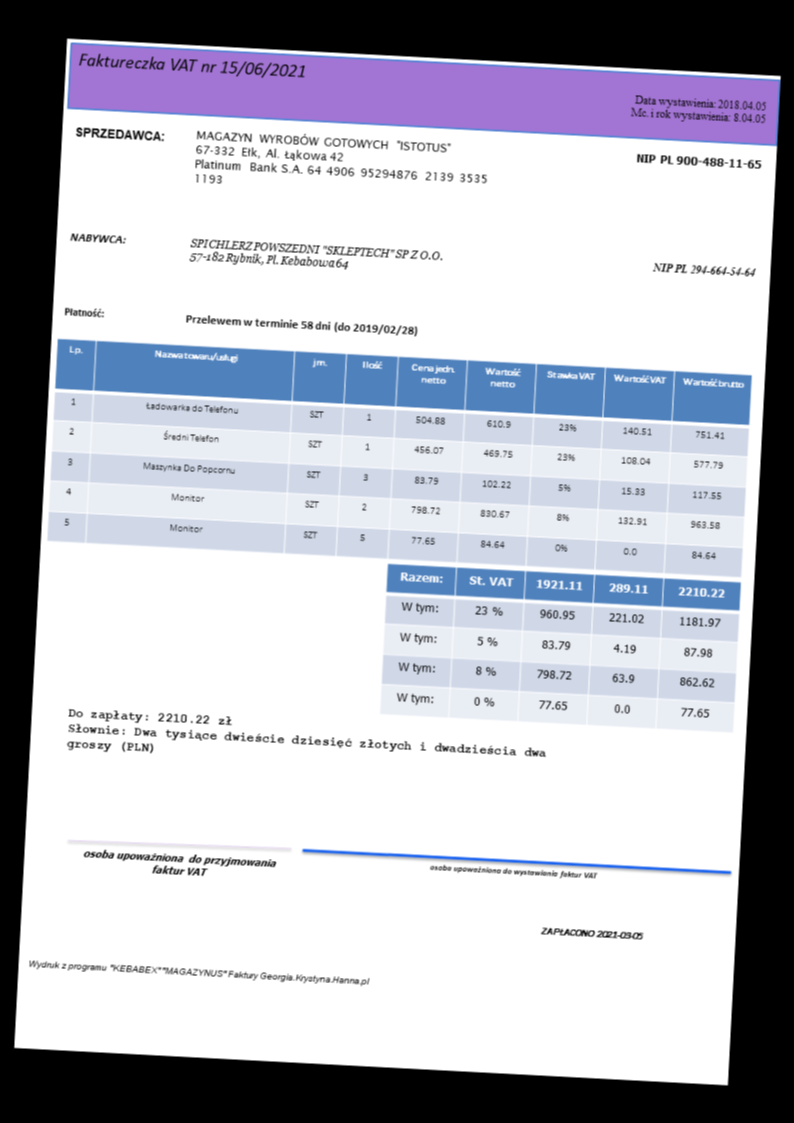Table: (45, 337, 753, 578), (378, 561, 742, 733)
TextBox: (64, 705, 550, 776), (191, 125, 491, 199), (25, 955, 372, 988), (187, 235, 445, 277), (80, 845, 279, 883), (76, 49, 307, 80), (183, 312, 418, 337), (628, 90, 768, 124), (427, 861, 599, 881), (632, 150, 762, 172), (650, 259, 756, 280), (72, 121, 167, 144), (538, 923, 644, 943), (67, 229, 128, 246), (62, 303, 106, 320)
